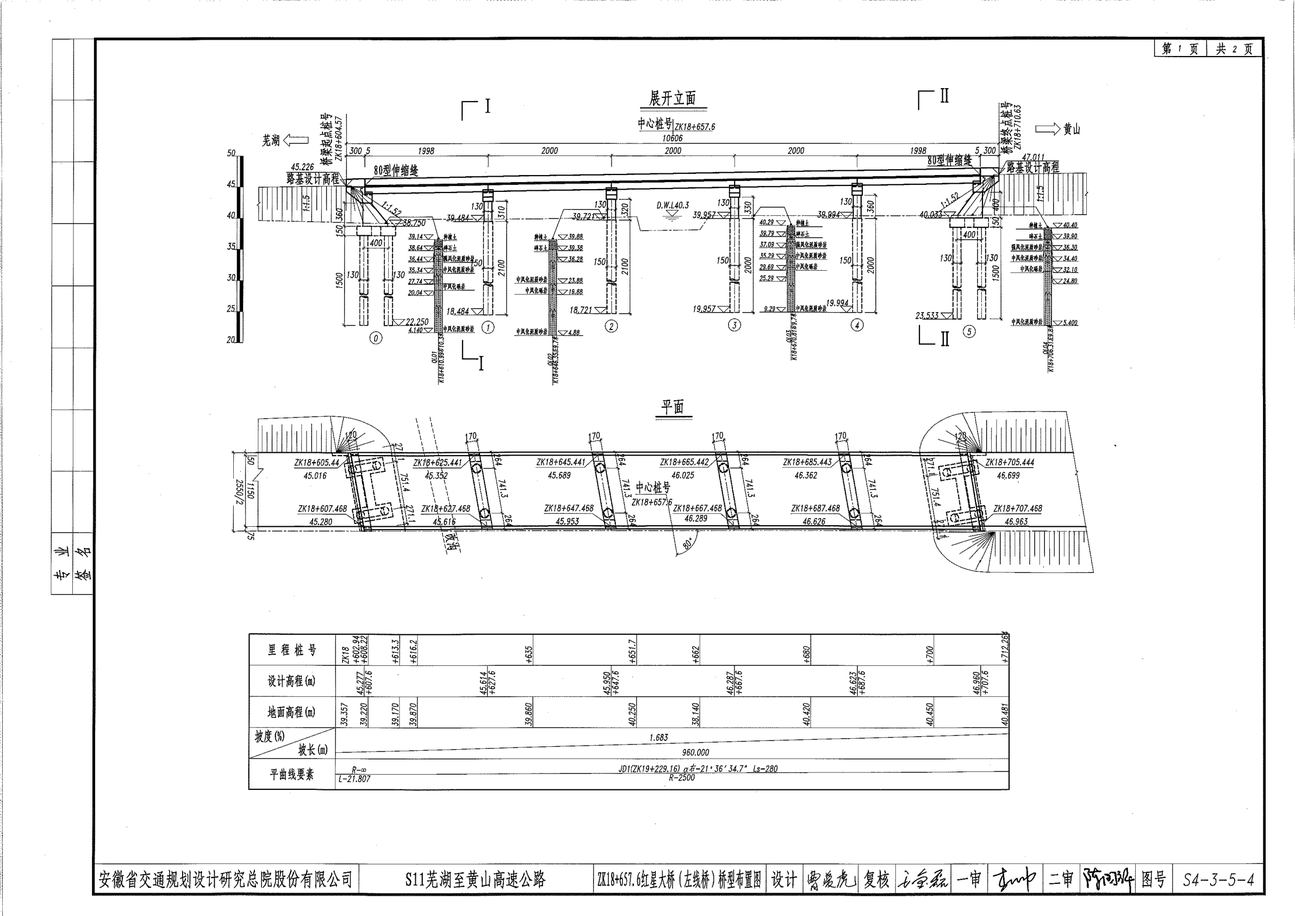A: (202, 85, 1111, 373)
